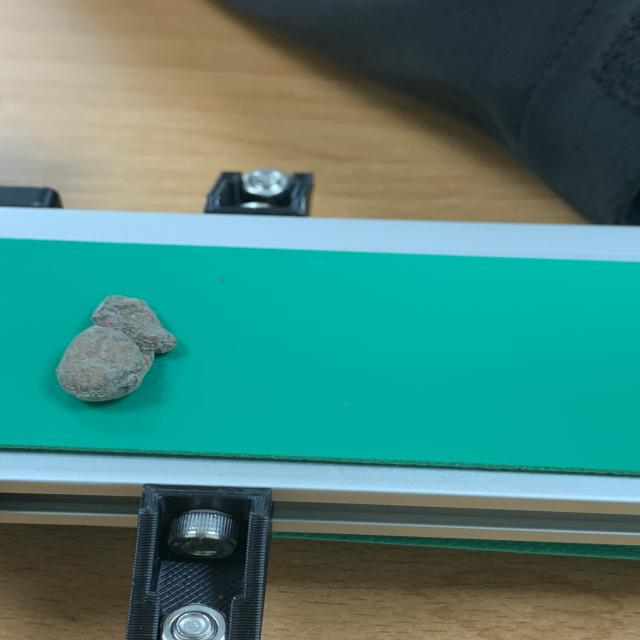Agglomerated_cocoabeans: (0, 274, 258, 442)
